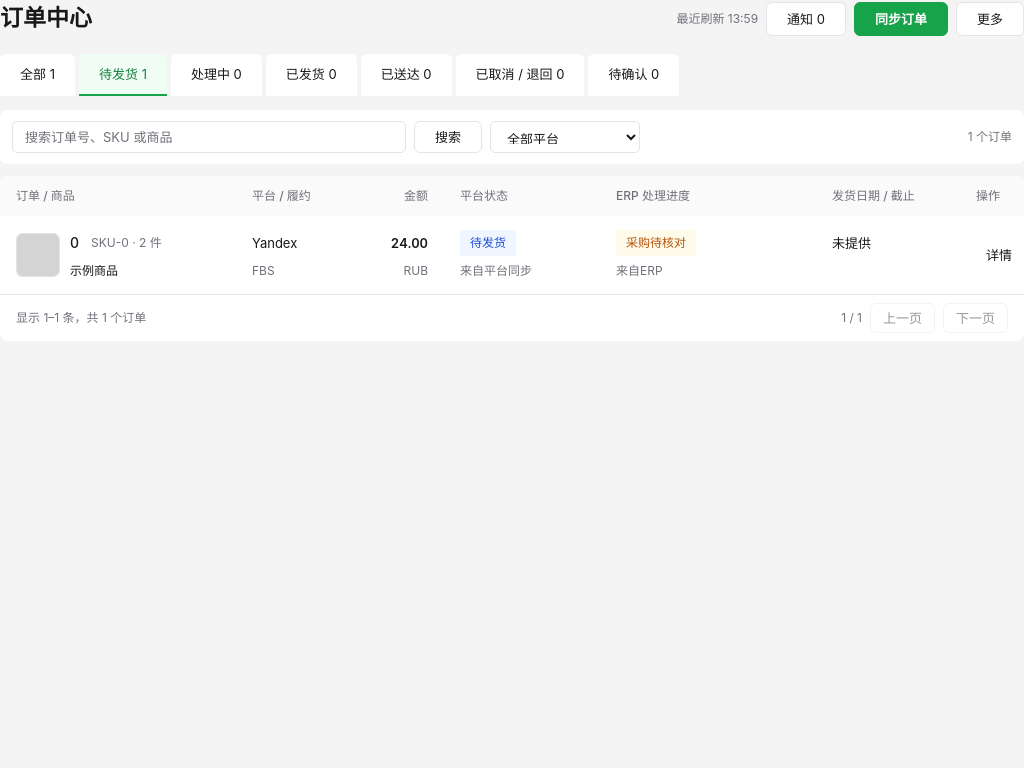
Scenario: 紧凑订单列表 › Yandex PROCESSING / PACKAGING 在列表与详情区分平台主状态和附注
Expected: the text with class "order-badge" reads "待发货", left=470, top=235, right=506, bottom=250
Click the link with aria-label "查看订单 0" at (999, 255), box left=986, top=247, right=1012, bottom=263
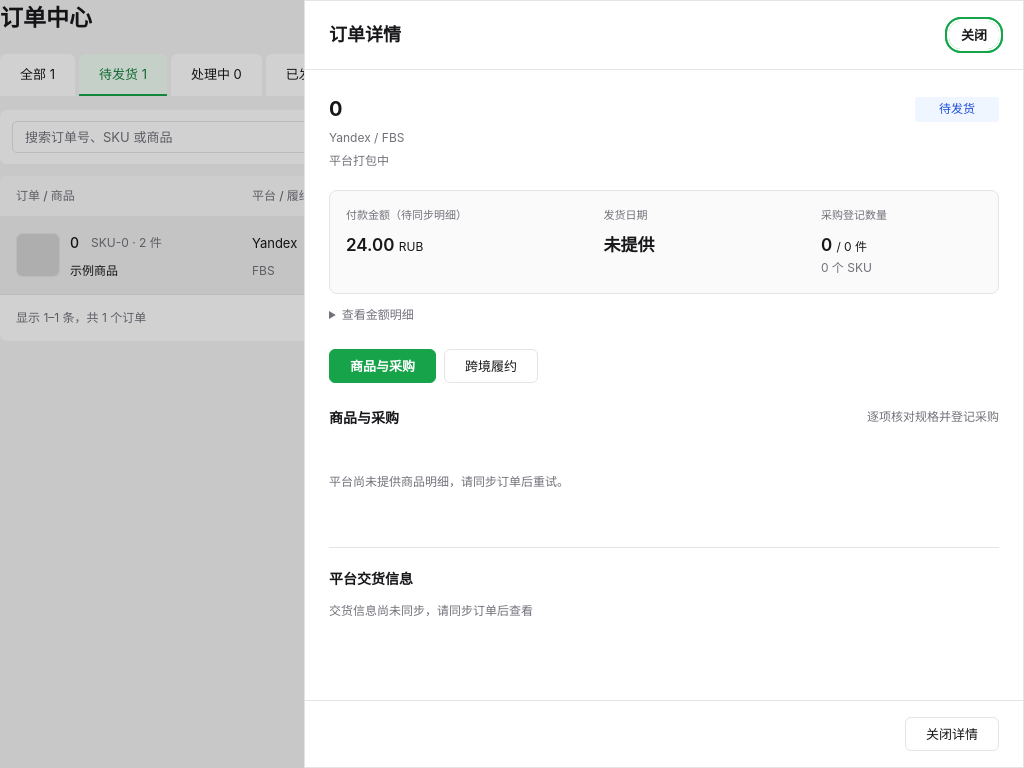
Expected: the text "平台打包中" is not shown
Now the text with class "order-badge" reads "待发货", box left=939, top=101, right=975, bottom=116
Now the dialog shows "平台打包中", box left=329, top=153, right=389, bottom=168
